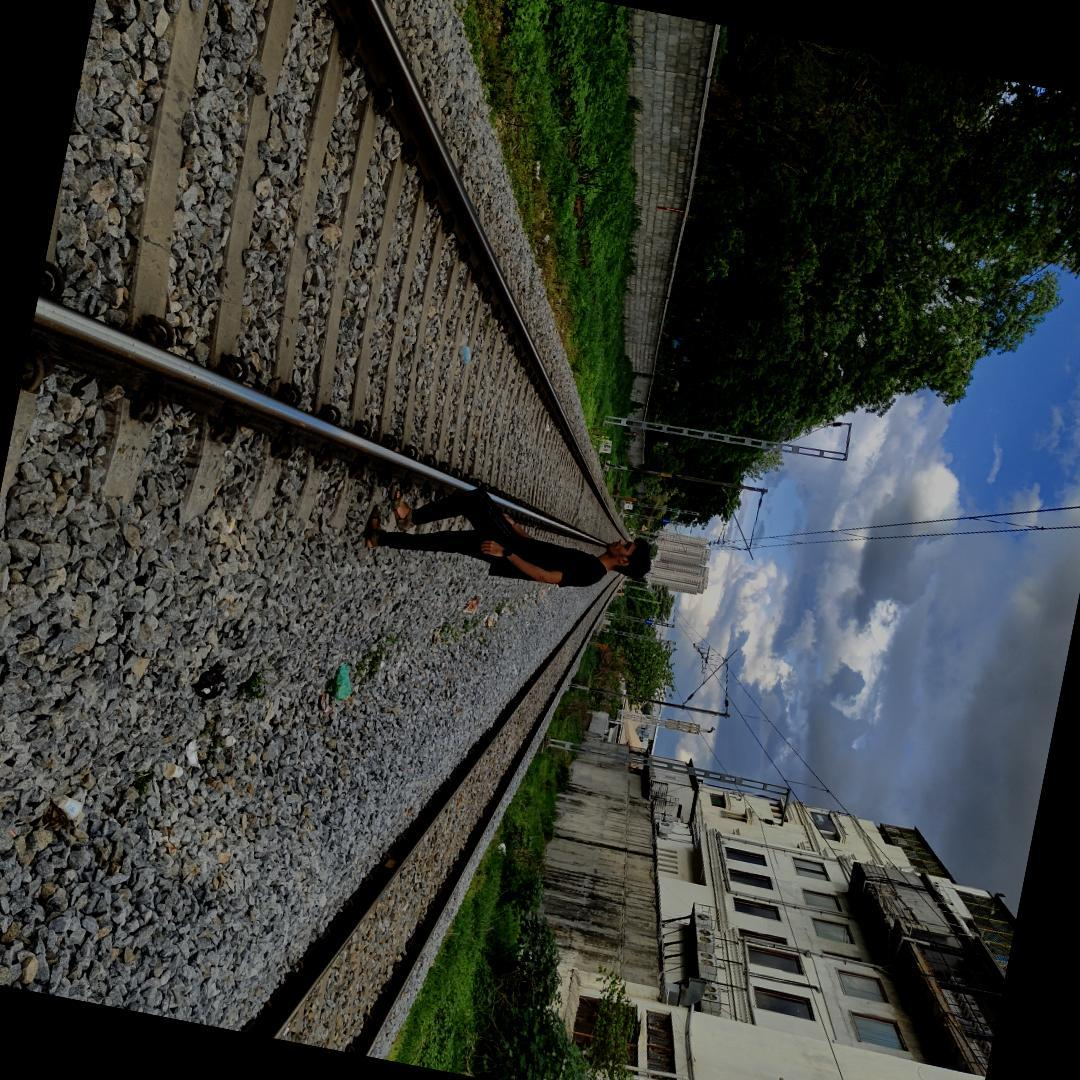standing: (346, 457, 668, 623)
